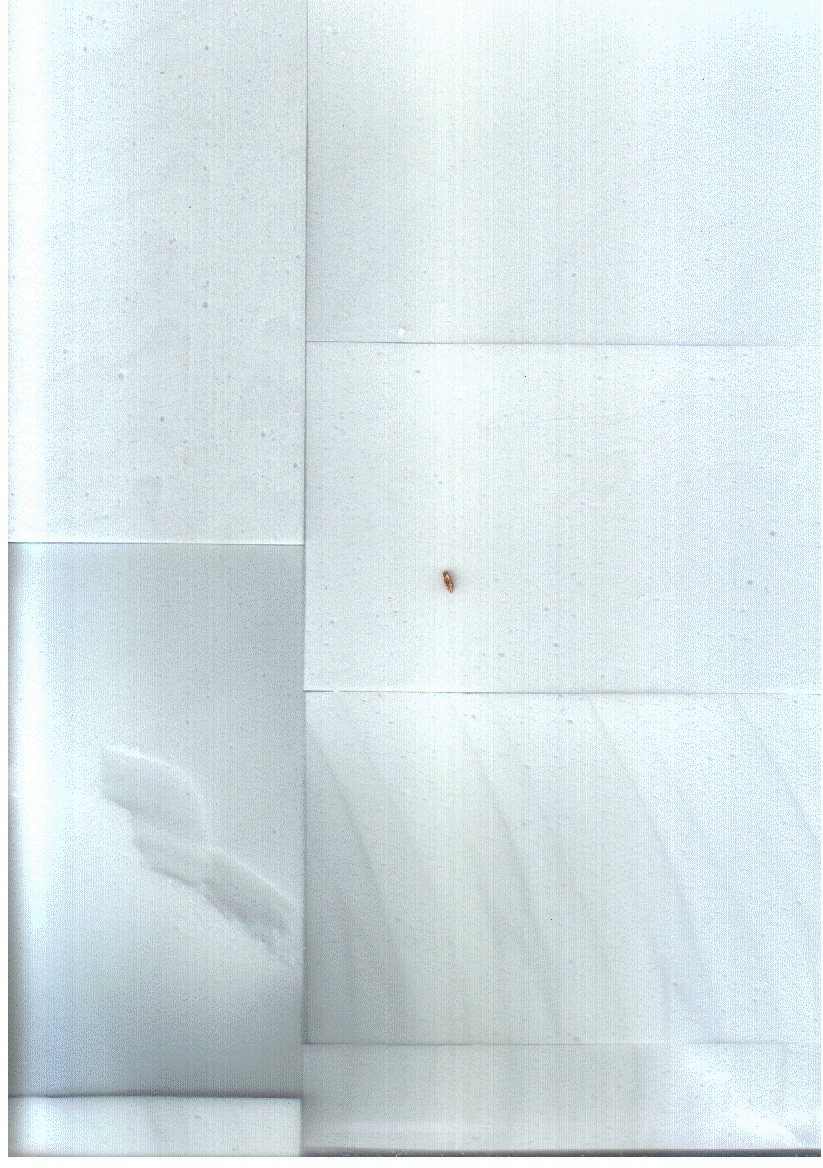grains: (426, 559, 469, 605)
